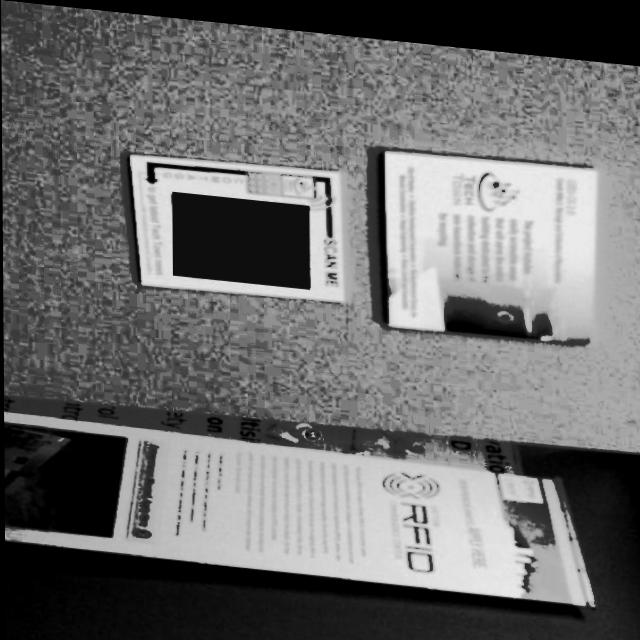qr_code: (171, 188, 309, 283)
